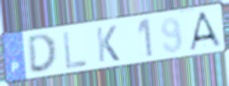1: (135, 17, 154, 60)
9: (160, 16, 184, 54)
A: (188, 10, 224, 53)
D: (26, 32, 59, 75)
K: (94, 24, 121, 64)
L: (61, 29, 89, 72)
